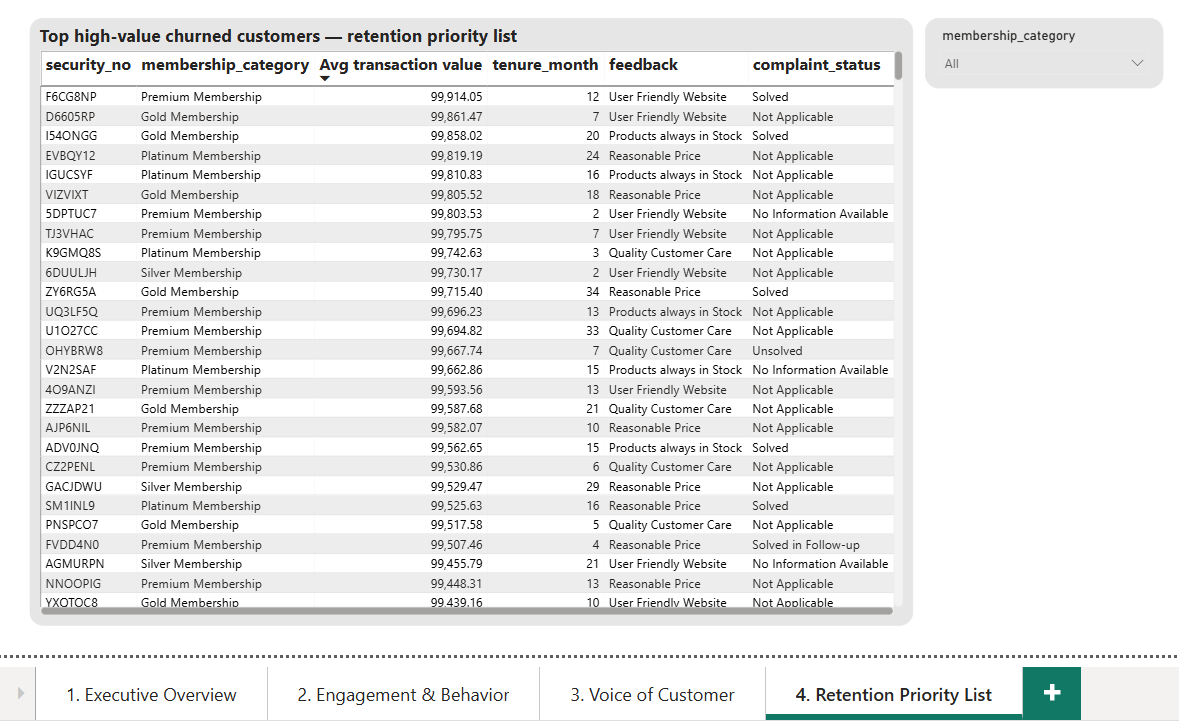

This screenshot's page, from the dashboard's own definition file:
{"tool":"powerbi","page":{"name":"4. Retention Priority List","canvas":[1280,720],"ordinal":3},"visuals":[{"type":"tableEx","title":"Top high-value churned customers — retention priority list","fields":{"Values":["churn_db customer_churn.security_no","churn_db customer_churn.membership_category","churn_db customer_churn.Avg transaction value","churn_db customer_churn.tenure_month","churn_db customer_churn.feedback","churn_db customer_churn.complaint_status"]},"box":[37.2,32.4,953.7,655.8],"z":0},{"type":"slicer","fields":{"Values":["churn_db customer_churn.membership_category"]},"box":[1003.9,32.4,257.5,76.1],"z":1000}]}

Visuals, with their boxes on the page's 1280x720 design canvas (x1, y1, x2, y2). These are canvas units, not pixel positions in the 1179x721 screenshot, which may show the page scaled, cropped or inside an application window:
"Top high-value churned customers — retention priority list" tableEx: 37:32:991:688
slicer - churn_db customer_churn.membership_category: 1004:32:1261:108
